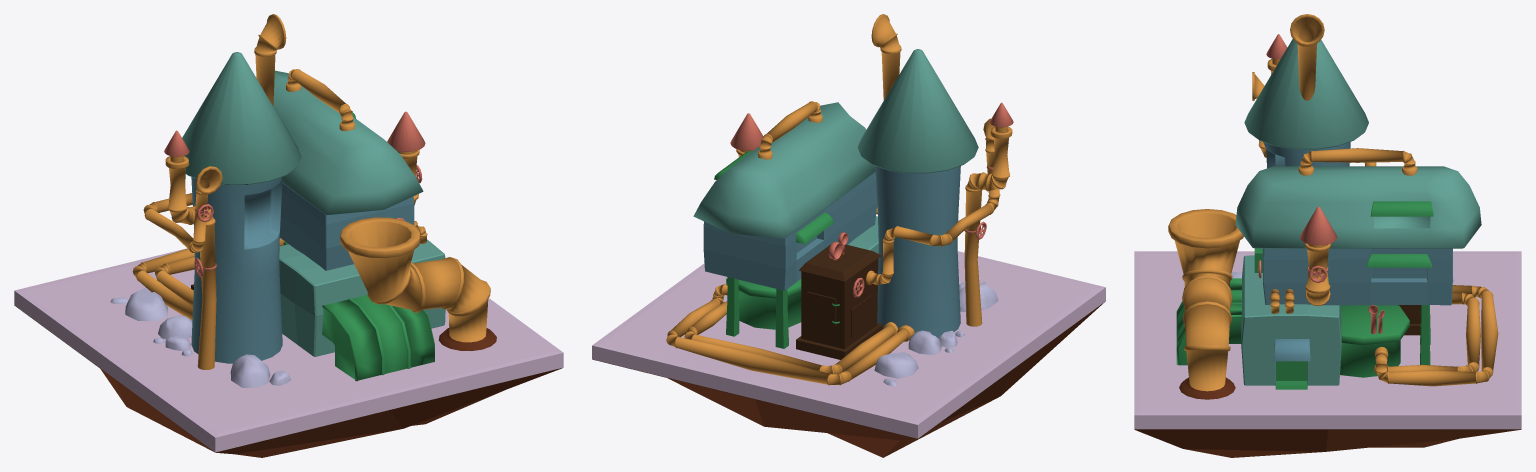
Rendered from Steam House_krivie.fbx.
3 views of the same model, side by side, from view 1: azimuth 30°, elevation 25°; view 2: azimuth 150°, elevation 25°; view 3: azimuth 270°, elevation 25° (orthographic). The views are drawn at different scales.
Visible parts, largest first — view 1: Cube, ground, Tube 1; view 2: Cube, ground, Tube 1; view 3: Cube, ground, Tube 1.
Boxes of the visible parts, box(x1,y1,x2,y2) form: Cube: box(182, 52, 445, 381); ground: box(14, 248, 563, 457); Tube 1: box(132, 14, 496, 369); Cube: box(693, 49, 978, 359); ground: box(592, 251, 1105, 457); Tube 1: box(666, 14, 1013, 385); Cube: box(1176, 39, 1481, 389); ground: box(1134, 251, 1521, 457); Tube 1: box(1168, 14, 1498, 399).
Bounding box in the file's own units: 1014 × 1195 × 1014.
